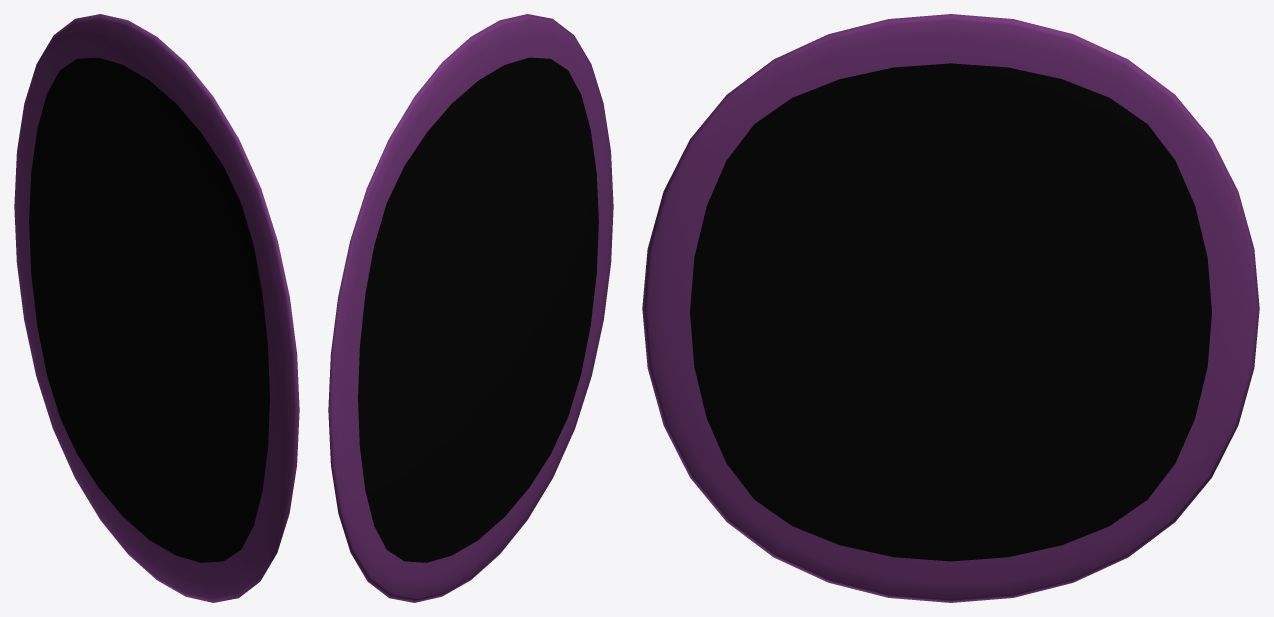
Rendered from Portal_Beta.fbx.
The picture shows the model from 3 angles, left to right: view 1: azimuth 30°, elevation 25°; view 2: azimuth 150°, elevation 25°; view 3: azimuth 270°, elevation 25°; orthographic projection. The views are drawn at different scales.
Visible parts, largest first — view 1: Cube.001; view 2: Cube.001; view 3: Cube.001.
Part boxes in pixels (x1,y1,x2,y2): Cube.001: (14,14,299,602); Cube.001: (328,14,613,602); Cube.001: (642,14,1259,602).
Size of the model in its own units: 8.4 by 168 by 160.
